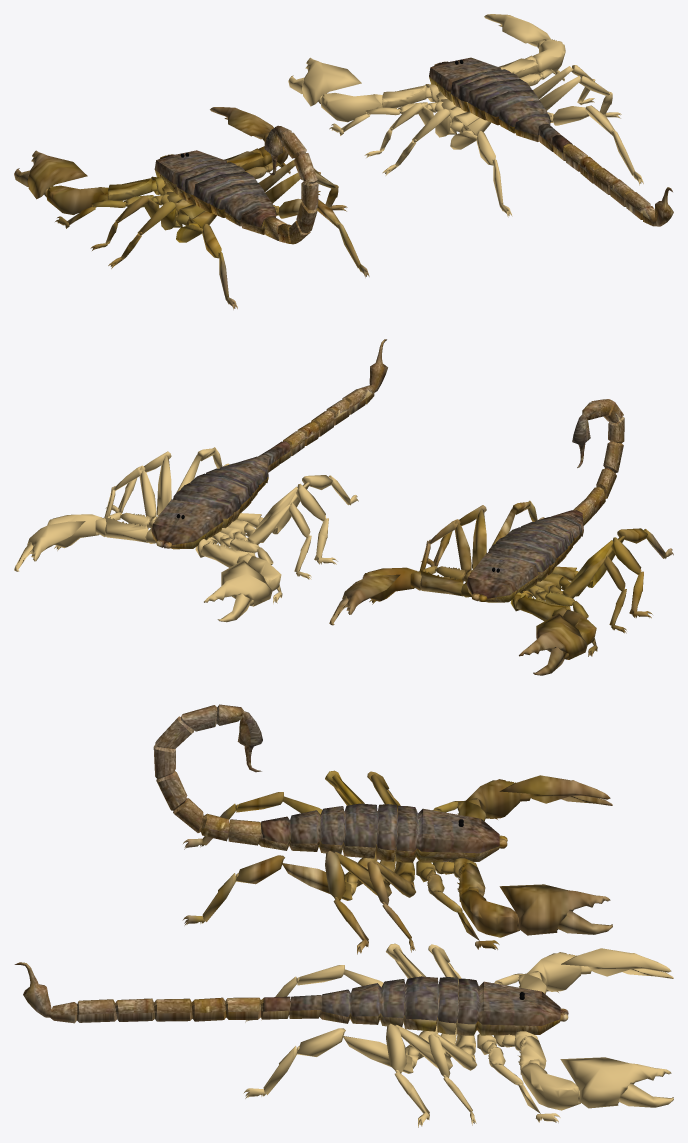
File: quanxie.FBX
The picture shows the model from 3 angles, top to bottom: view 1: azimuth 30°, elevation 25°; view 2: azimuth 150°, elevation 25°; view 3: azimuth 270°, elevation 25°; orthographic projection. The views are drawn at different scales.
Parts seen in each view (by area): view 1: Box003, Box002; view 2: Box002, Box003; view 3: Box003, Box002.
Part boxes in pixels (x1=…): Box003: x1=288, y1=14, x2=673, y2=226; Box002: x1=14, y1=107, x2=369, y2=309; Box002: x1=329, y1=399, x2=673, y2=675; Box003: x1=14, y1=339, x2=387, y2=622; Box003: x1=14, y1=943, x2=673, y2=1127; Box002: x1=153, y1=704, x2=612, y2=954.
Bounding box in the file's own units: 67.1 × 18.1 × 59.52.
2 materials, 1 textured.
